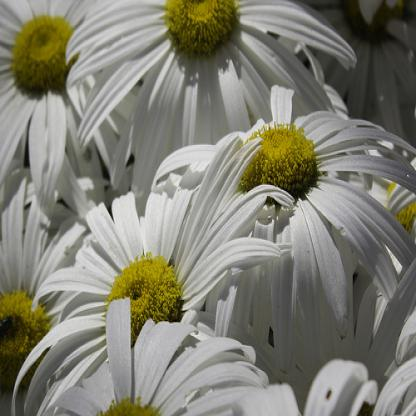ASTER: (3, 11, 409, 406)
